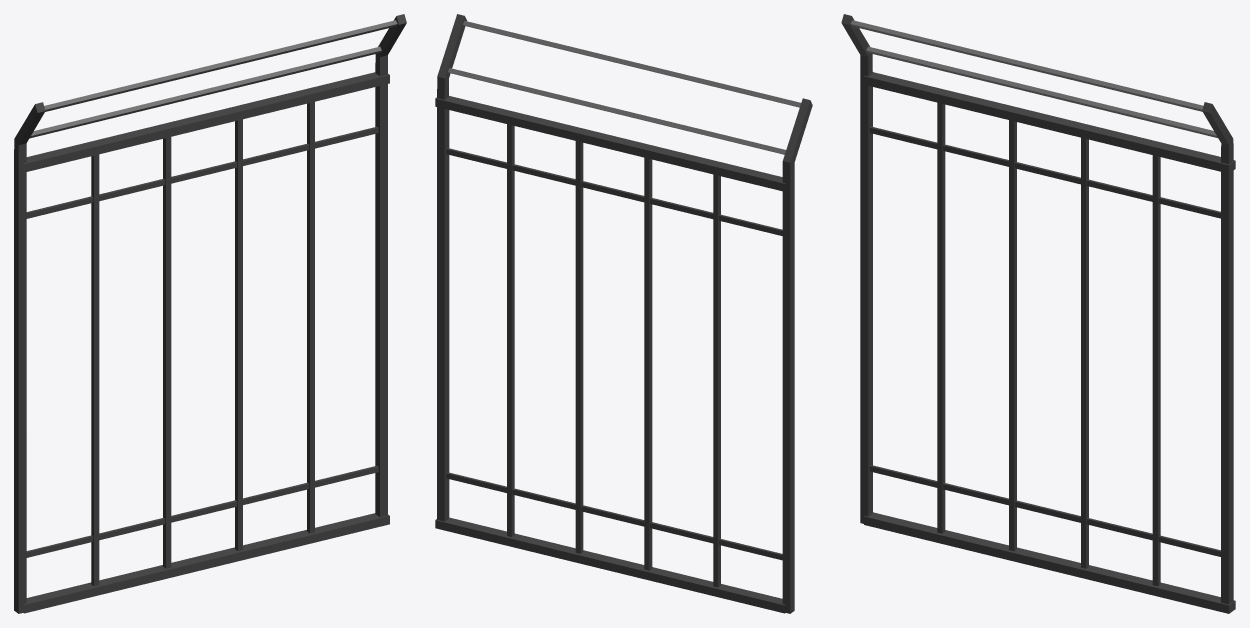
File: SM_IndustrialProps_Fence_03R.fbx
3 views of the same model, side by side, from view 1: azimuth 30°, elevation 25°; view 2: azimuth 150°, elevation 25°; view 3: azimuth 330°, elevation 25° (orthographic). The views are drawn at different scales.
Visible parts, largest first — view 1: SM_IndustrialProps_Fence_03R; view 2: SM_IndustrialProps_Fence_03R; view 3: SM_IndustrialProps_Fence_03R.
Part boxes in pixels (x1,y1,x2,y2): SM_IndustrialProps_Fence_03R: (14, 14, 406, 613); SM_IndustrialProps_Fence_03R: (435, 14, 812, 613); SM_IndustrialProps_Fence_03R: (841, 14, 1235, 613).
Size of the model in its own units: 1.84 by 2.47 by 0.2107.
